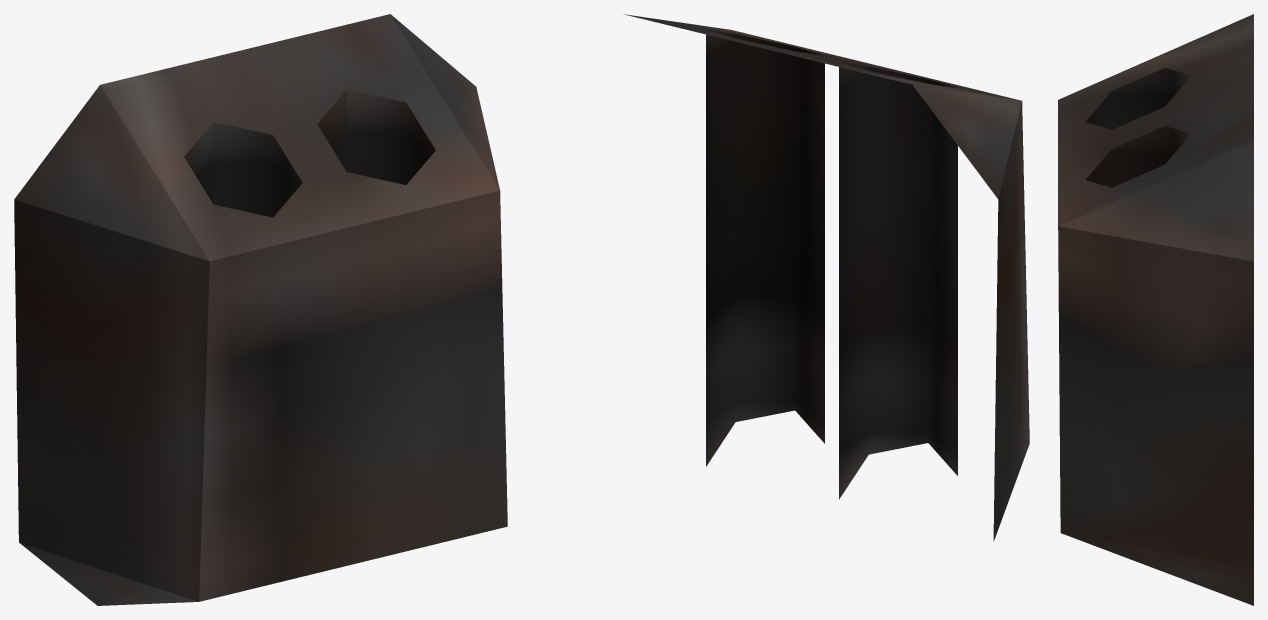
The model's file is grave_factory_door_lock_door.glb.
3 views of the same model, side by side, from view 1: azimuth 30°, elevation 25°; view 2: azimuth 150°, elevation 25°; view 3: azimuth 270°, elevation 25° (orthographic). The views are drawn at different scales.
Parts seen in each view (by area): view 1: 02_door_lock_door_part; view 2: 02_door_lock_door_part; view 3: 02_door_lock_door_part.
Boxes of the visible parts, bbox=[...] form: 02_door_lock_door_part: bbox=[14, 14, 507, 605]; 02_door_lock_door_part: bbox=[624, 14, 1029, 541]; 02_door_lock_door_part: bbox=[1058, 14, 1253, 605].
Bounding box in the file's own units: 0.3185 × 0.3428 × 0.1309.
Materials: 1 (1 with a texture image).
